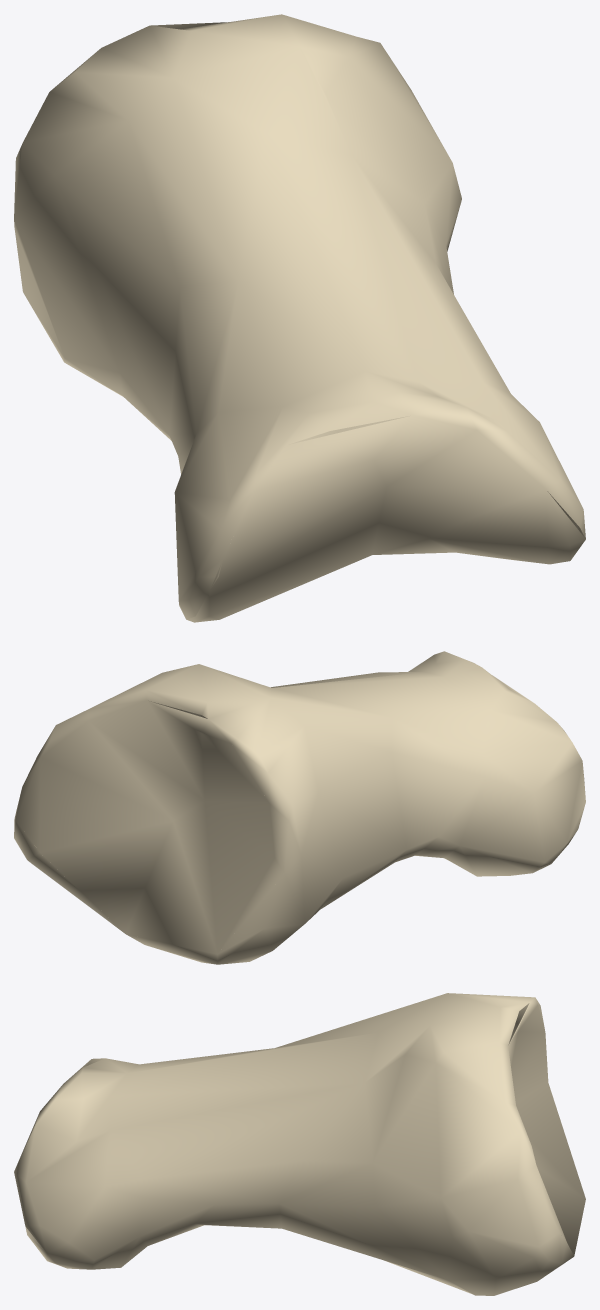
File: esqueleto-proximal-phalanx-of-first-finger-of-foot-r.glb
The picture shows the model from 3 angles, top to bottom: view 1: azimuth 30°, elevation 25°; view 2: azimuth 150°, elevation 25°; view 3: azimuth 270°, elevation 25°; orthographic projection. The views are drawn at different scales.
Visible parts, largest first — view 1: Proximal phalanx of first finger of foot.r; view 2: Proximal phalanx of first finger of foot.r; view 3: Proximal phalanx of first finger of foot.r.
Part boxes in pixels (box(x1,y1,x2,y2)): Proximal phalanx of first finger of foot.r: box(14, 14, 585, 622); Proximal phalanx of first finger of foot.r: box(14, 651, 585, 964); Proximal phalanx of first finger of foot.r: box(14, 993, 585, 1295).
Size of the model in its own units: 0.0261 by 0.0177 by 0.0345.
